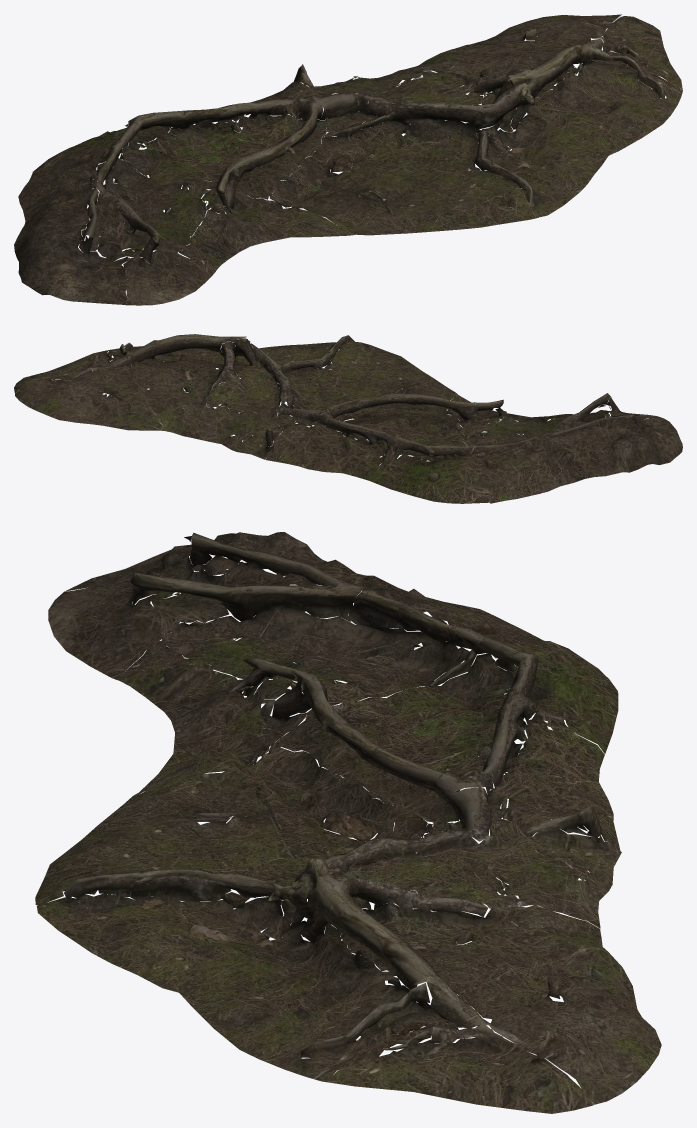
File: pine-roots-a.glb
3 renders of one model, top to bottom at view 1: azimuth 30°, elevation 25°; view 2: azimuth 150°, elevation 25°; view 3: azimuth 270°, elevation 25°, orthographic. The views are drawn at different scales.
Visible parts, largest first — view 1: pine_roots_a; view 2: pine_roots_a; view 3: pine_roots_a.
Part boxes in pixels (x1=…): pine_roots_a: x1=14, y1=14, x2=682, y2=305; pine_roots_a: x1=14, y1=334, x2=682, y2=503; pine_roots_a: x1=35, y1=532, x2=661, y2=1113.
Bounding box in the file's own units: 1.74 × 0.1435 × 0.8263.
1 material, 1 textured.
